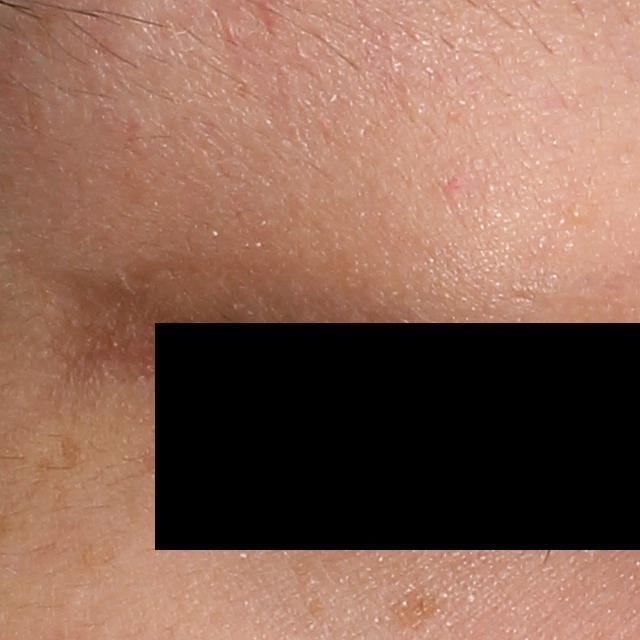comedo: (567, 203, 588, 222)
melasma: (390, 588, 440, 631)
